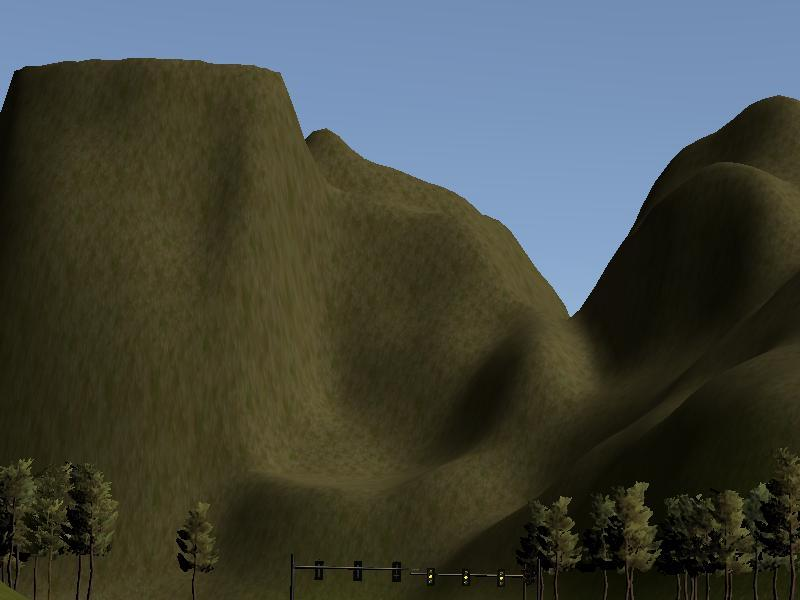Yellow: (426, 565, 435, 587), (496, 569, 506, 588), (461, 567, 470, 587)
